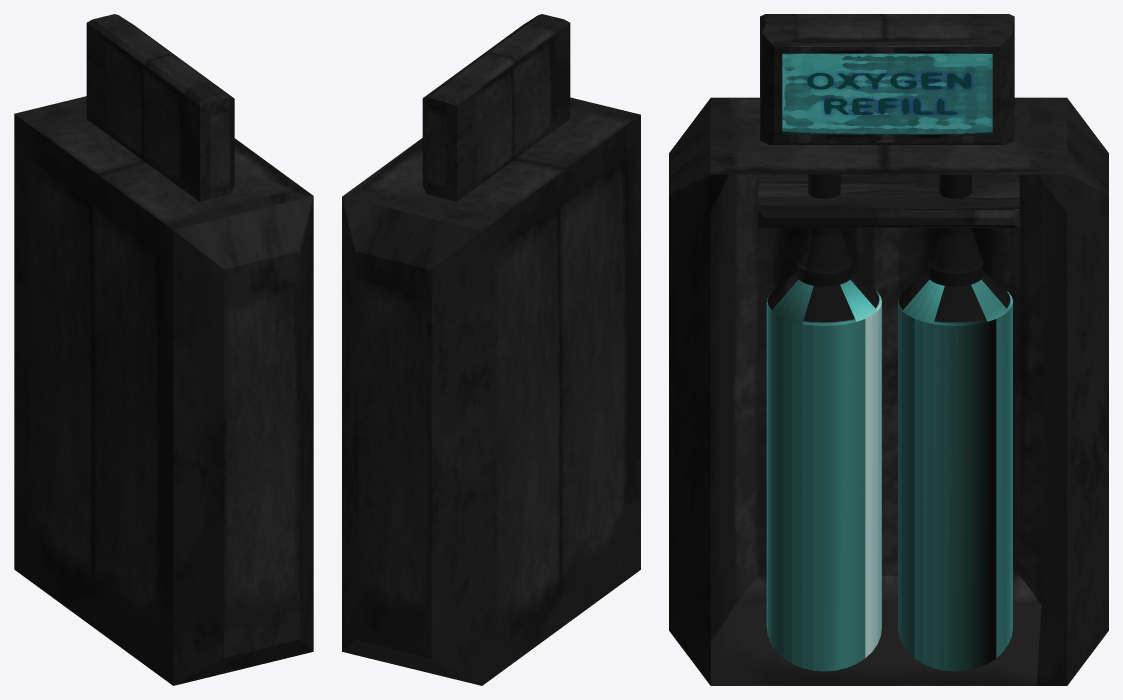
The model's file is obj_OxygenTank0.fbx.
The picture shows the model from 3 angles, left to right: view 1: azimuth 30°, elevation 25°; view 2: azimuth 150°, elevation 25°; view 3: azimuth 270°, elevation 25°; orthographic projection. The views are drawn at different scales.
Visible parts, largest first — view 1: OTankBack0; view 2: OTankBack0; view 3: OTankBack0.
Boxes of the visible parts, <box> form: OTankBack0: <box>14,14,313,685</box>; OTankBack0: <box>342,14,640,685</box>; OTankBack0: <box>669,14,1108,685</box>.
Size of the model in its own units: 64.39 by 244 by 156.
